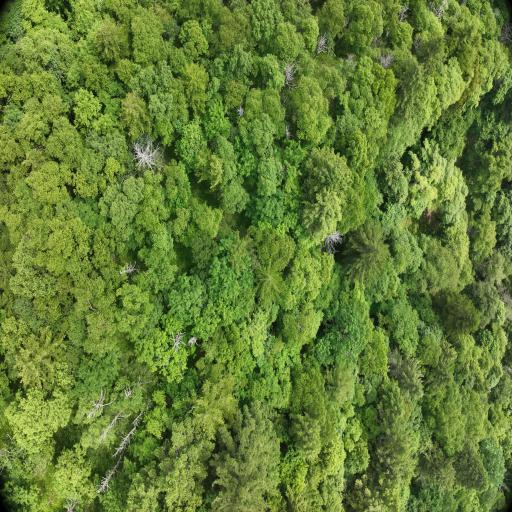dead-tree: (126, 132, 169, 178), (93, 457, 127, 489), (281, 58, 303, 94), (98, 411, 122, 442), (109, 428, 136, 453), (83, 392, 108, 417), (121, 377, 148, 398), (322, 228, 343, 253), (429, 0, 449, 24), (377, 49, 398, 71), (119, 261, 141, 282), (314, 32, 328, 58), (499, 21, 511, 47), (397, 4, 411, 24), (380, 26, 393, 46), (411, 34, 423, 52), (282, 124, 294, 140), (236, 105, 246, 119), (347, 52, 355, 65)
